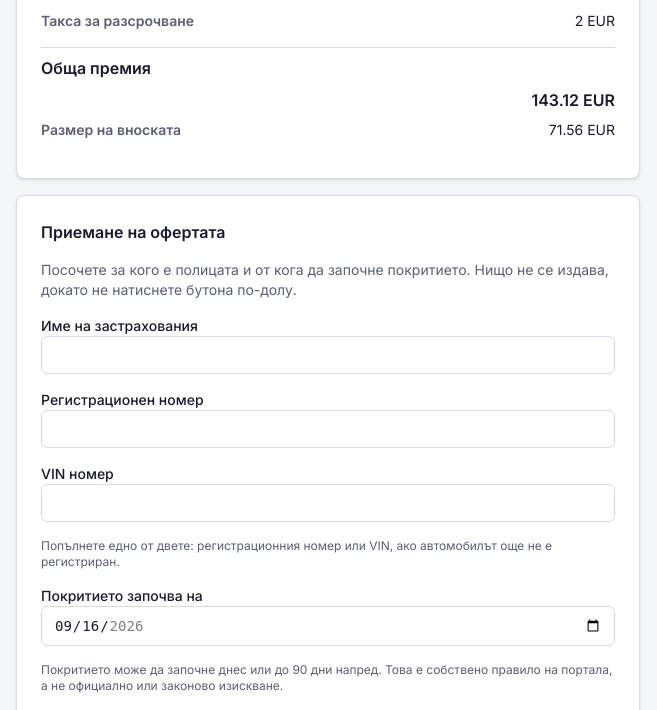
Test case: QuoteDetail acceptance section (Story 8.2) › re-reads the quote and re-renders as expired when the offer dies mid-screen
(page scrolled)
Type "Ivan Petrov" into the field labelled "Име на застрахования".
click(328, 355); type("Ivan Petrov")  # box x1=41 y1=336 x2=615 y2=374
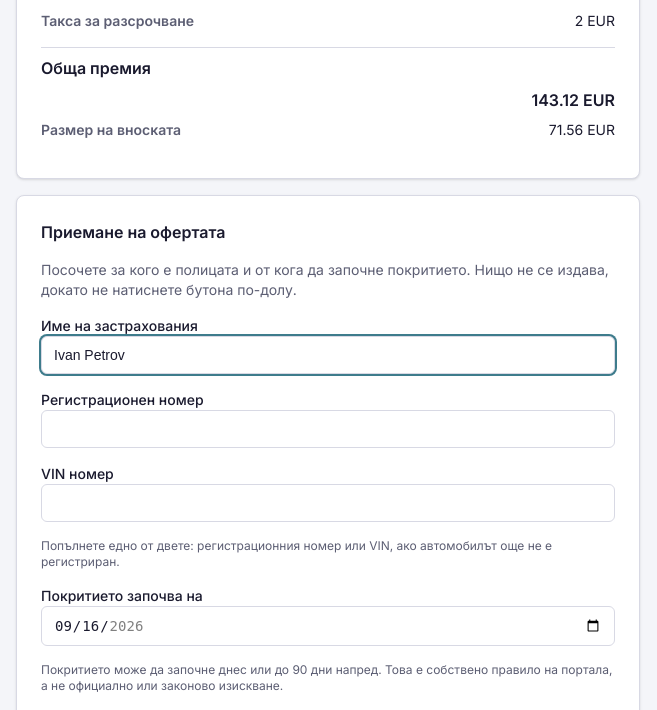
Type "CA1234BM" into the field labelled "Регистрационен номер".
click(328, 429); type("CA1234BM")  # box x1=41 y1=410 x2=615 y2=448
(page scrolled)
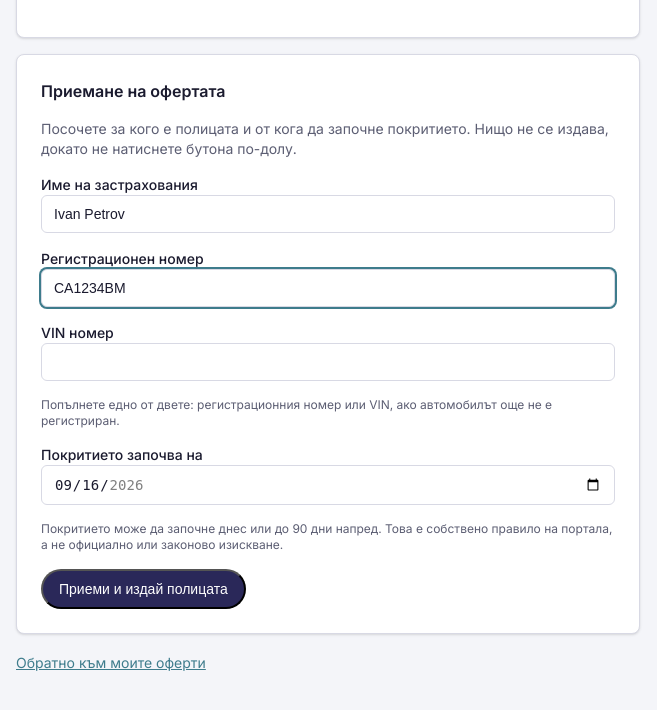
Click the button "Приеми и издай полицата".
click(143, 589)  # box x1=41 y1=569 x2=246 y2=609
(page scrolled)
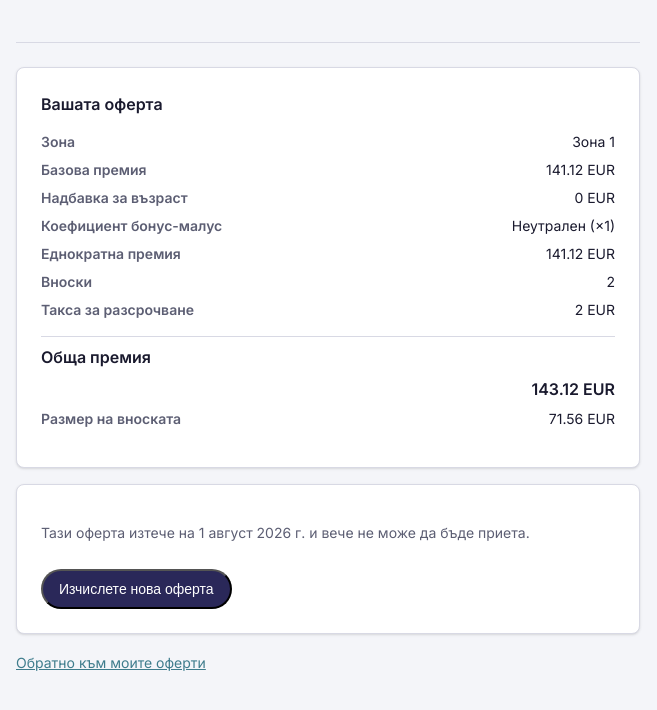
expect the element with test id "quote-detail-expired-notice" is shown: met, box x1=16 y1=484 x2=640 y2=634
expect the element with test id "accept-form" is gone: met
